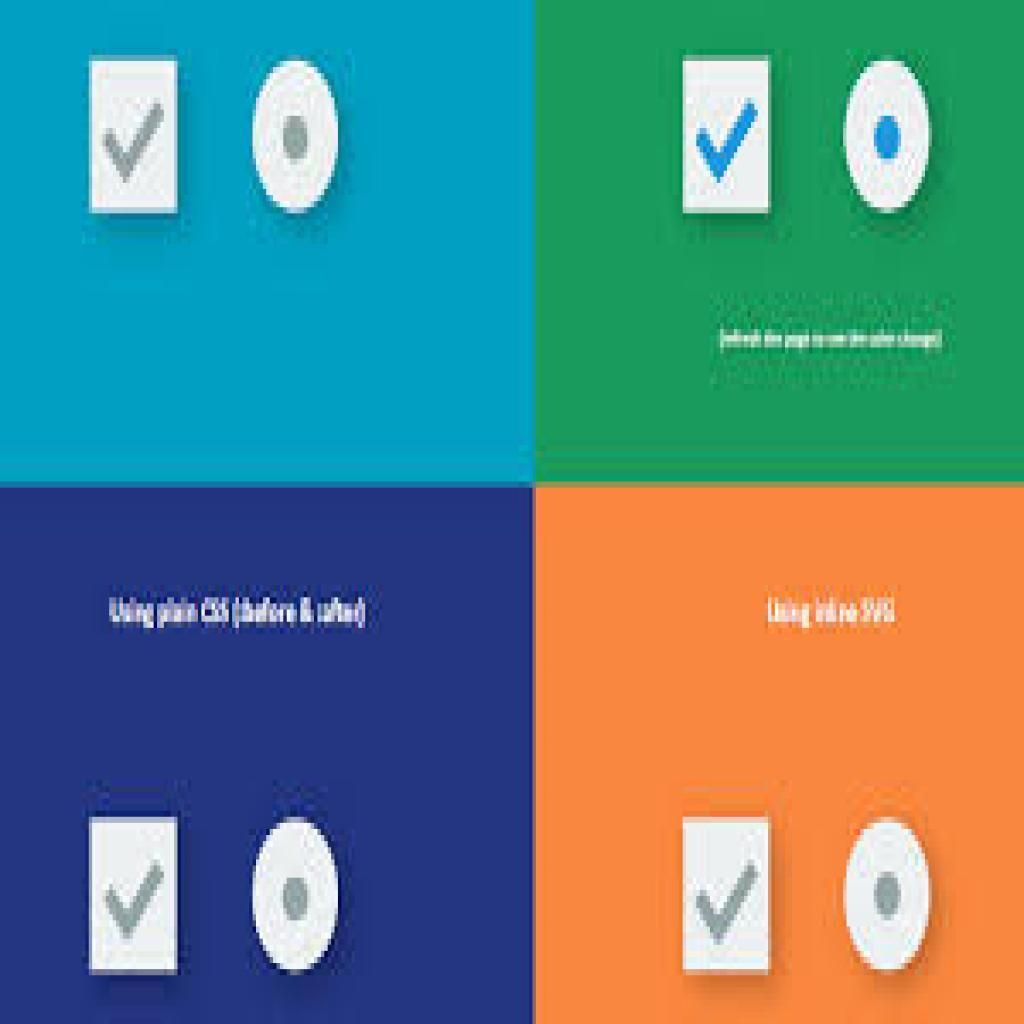checkbox: (677, 801, 778, 991), (676, 55, 777, 224), (85, 58, 183, 223), (91, 821, 180, 976)
radio: (241, 807, 349, 993), (837, 807, 942, 991), (837, 44, 943, 225), (244, 55, 344, 225)
